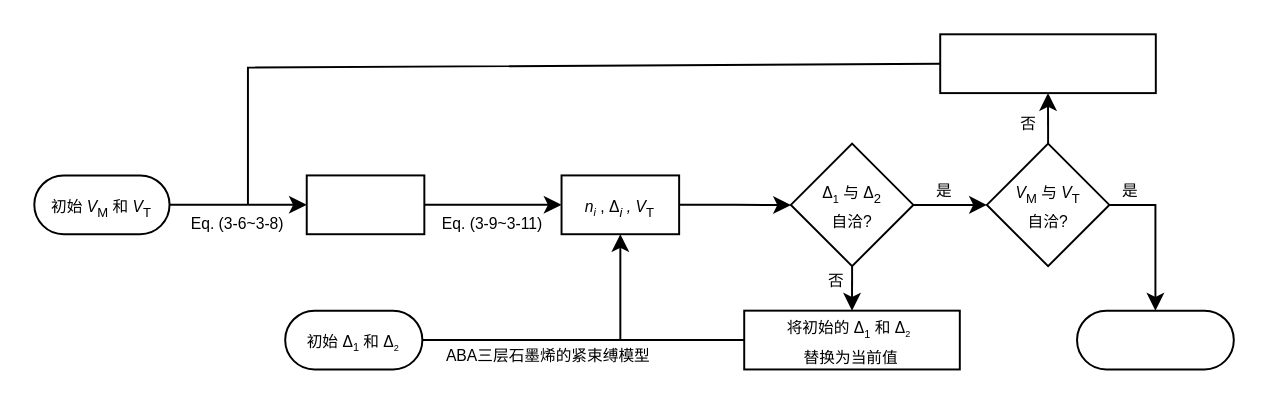
Image size: 1268x417. Some labels were removed from this diagram. Here are the shapes that lost their labels. From the top down, the centre of each, then its label:
At [1047,62]: "将初始的 V M 和 V T 替换为当前值".
At [364,203]: "n M , n T , V M".
At [1154,339]: "输出 n M 和 n T".
